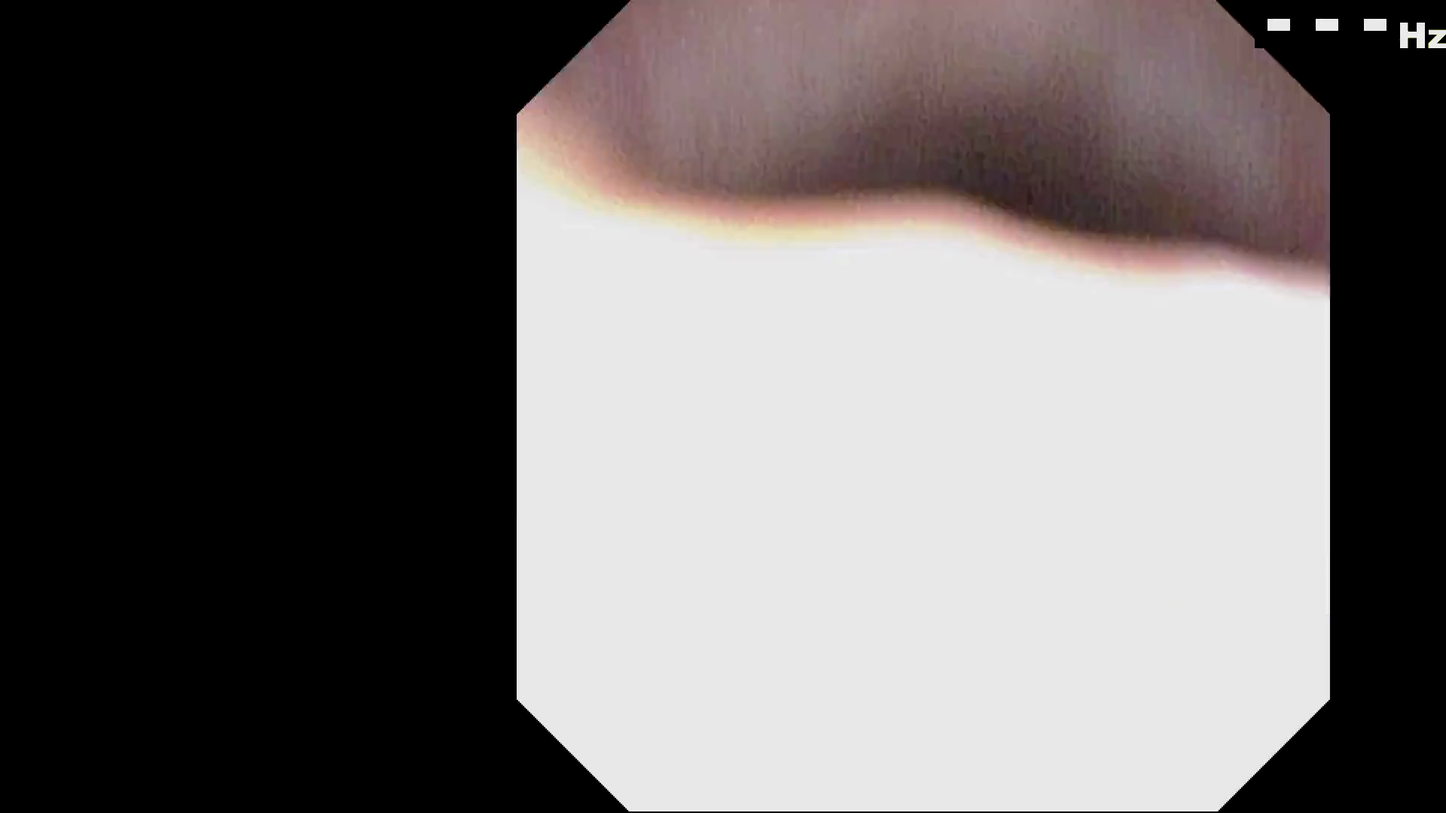epiglottis: (658, 505, 1220, 713)
trachea: (903, 445, 992, 560)
